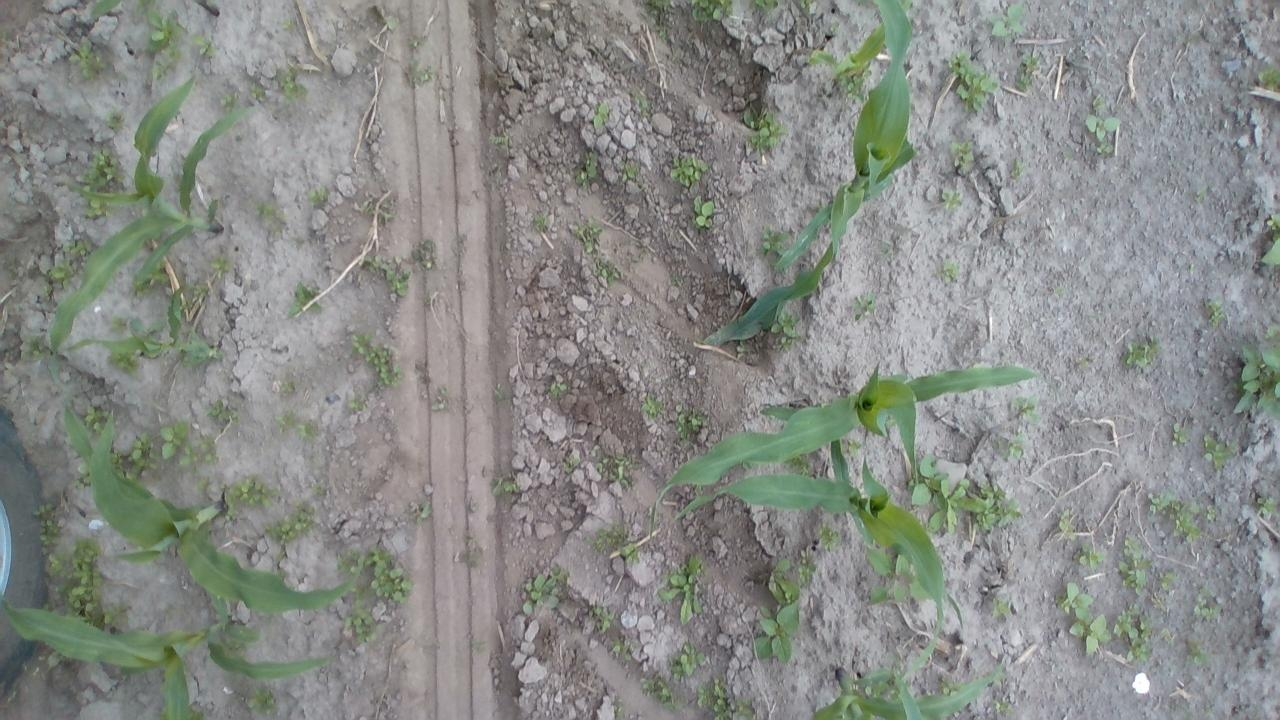Maize: (702, 0, 917, 349), (652, 360, 1041, 544), (62, 397, 366, 614), (674, 398, 946, 624), (48, 70, 238, 352), (0, 595, 331, 720), (63, 287, 217, 364), (810, 665, 1002, 720), (810, 26, 886, 84), (87, 0, 123, 19), (194, 0, 222, 16)
Weeds: (912, 452, 1026, 530), (1053, 581, 1111, 658), (657, 554, 707, 628), (66, 540, 108, 626), (1146, 484, 1204, 546), (1233, 343, 1279, 421), (748, 604, 802, 666), (351, 327, 405, 389), (160, 424, 222, 470), (364, 547, 415, 602), (954, 54, 1000, 113), (521, 564, 568, 618), (1112, 604, 1156, 660), (869, 547, 910, 605), (741, 103, 785, 156), (753, 558, 802, 604), (1084, 95, 1121, 155), (1116, 530, 1148, 598), (78, 144, 124, 190), (266, 503, 316, 544), (110, 434, 154, 480), (1118, 330, 1160, 373), (364, 255, 408, 296), (272, 410, 322, 446), (693, 677, 735, 719), (182, 324, 220, 370), (592, 524, 638, 560), (672, 640, 711, 682), (68, 43, 108, 83), (666, 154, 710, 190), (593, 450, 637, 486), (1202, 432, 1241, 472), (34, 500, 66, 548), (146, 6, 180, 50), (646, 0, 678, 44), (288, 280, 321, 320), (356, 193, 394, 226), (990, 4, 1026, 38), (1194, 586, 1224, 626), (691, 0, 732, 29), (672, 406, 705, 442), (590, 256, 624, 288), (344, 610, 376, 644), (1184, 637, 1218, 669), (244, 685, 280, 715), (576, 152, 604, 190), (236, 478, 275, 505), (1000, 434, 1032, 466), (1012, 52, 1038, 91), (576, 218, 604, 254), (646, 674, 676, 706), (795, 546, 819, 586), (112, 353, 146, 381), (850, 294, 878, 326), (840, 72, 871, 100), (1015, 396, 1048, 422), (1071, 545, 1104, 571), (207, 400, 246, 422), (410, 239, 438, 269), (692, 196, 716, 230), (404, 63, 434, 90), (82, 404, 108, 435), (773, 312, 803, 338), (588, 605, 616, 632), (784, 456, 820, 477), (190, 280, 217, 308), (628, 85, 654, 114), (336, 549, 361, 579), (949, 139, 974, 168), (16, 335, 45, 360), (640, 392, 662, 424), (257, 203, 284, 229), (49, 263, 76, 289), (764, 226, 786, 257), (1259, 63, 1280, 95), (1202, 298, 1226, 326), (106, 598, 128, 628), (818, 523, 843, 548), (282, 68, 304, 96), (72, 464, 92, 494), (1255, 495, 1280, 519), (2, 255, 25, 281), (1054, 514, 1078, 538), (82, 199, 110, 219), (496, 478, 524, 498), (939, 263, 968, 282), (989, 598, 1014, 620), (208, 255, 234, 276), (548, 373, 568, 400), (1261, 238, 1280, 266), (1172, 422, 1191, 450), (61, 240, 92, 257), (592, 103, 610, 132), (149, 262, 169, 288), (194, 29, 214, 55), (351, 584, 371, 610), (734, 695, 754, 720), (939, 192, 964, 212), (410, 501, 433, 522), (536, 210, 552, 240), (46, 552, 66, 574), (936, 676, 959, 695), (1156, 567, 1174, 591), (279, 376, 300, 396), (152, 58, 172, 79), (1075, 356, 1097, 374), (1264, 212, 1280, 236), (994, 698, 1014, 717), (610, 637, 631, 655), (621, 162, 638, 184), (753, 0, 781, 13), (1150, 594, 1168, 614), (1010, 160, 1028, 180), (196, 475, 212, 497), (220, 94, 238, 113), (107, 111, 124, 131), (110, 316, 128, 334), (1265, 324, 1280, 345), (565, 454, 579, 476), (348, 396, 365, 414), (1158, 628, 1177, 644), (410, 34, 429, 50), (844, 439, 861, 455), (492, 384, 506, 403), (313, 482, 329, 498), (384, 16, 402, 30), (190, 701, 203, 720), (311, 189, 327, 204), (488, 134, 504, 148), (250, 83, 264, 99), (1206, 505, 1219, 522), (1195, 189, 1211, 202), (796, 0, 814, 10), (134, 283, 148, 295), (280, 17, 292, 31), (1051, 284, 1065, 294), (168, 48, 182, 58), (45, 286, 53, 300)
